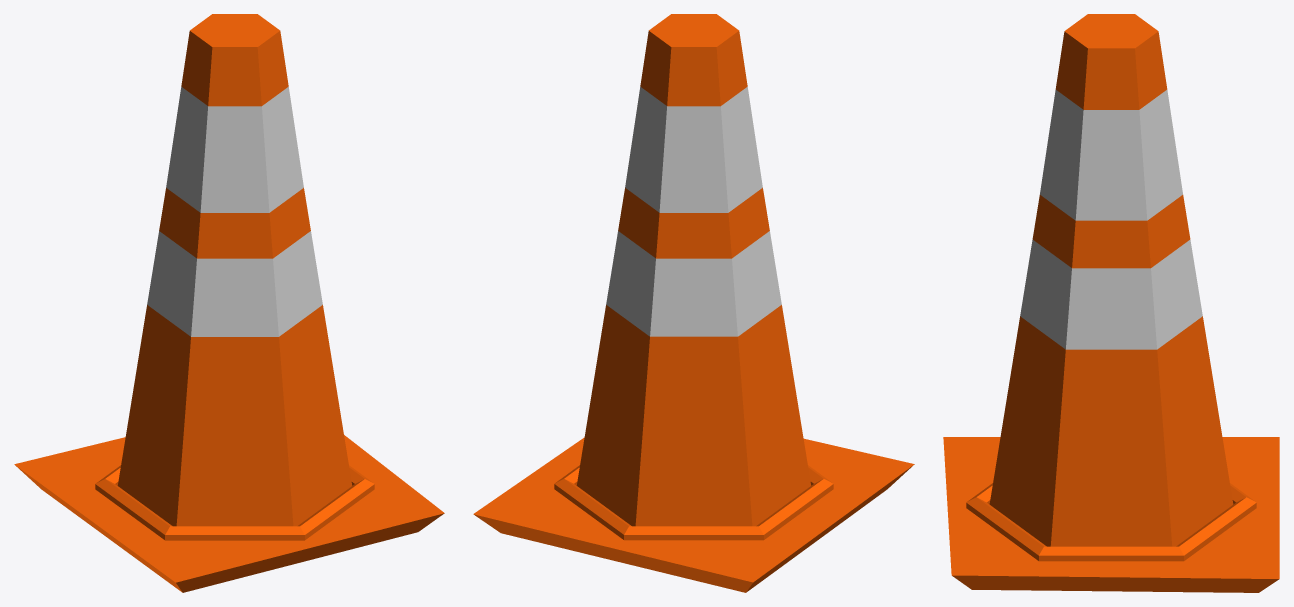
Rendered from conopequeño.fbx.
3 views of the same model, side by side, from view 1: azimuth 30°, elevation 25°; view 2: azimuth 150°, elevation 25°; view 3: azimuth 270°, elevation 25° (orthographic). The views are drawn at different scales.
Visible parts, largest first — view 1: D-2; view 2: D-2; view 3: D-2.
Part boxes in pixels (x1=…): D-2: x1=14, y1=14, x2=444, y2=592; D-2: x1=473, y1=14, x2=914, y2=592; D-2: x1=943, y1=14, x2=1279, y2=592.
Size of the model in its own units: 43.15 by 70.75 by 43.15.
1 material, 1 textured.
